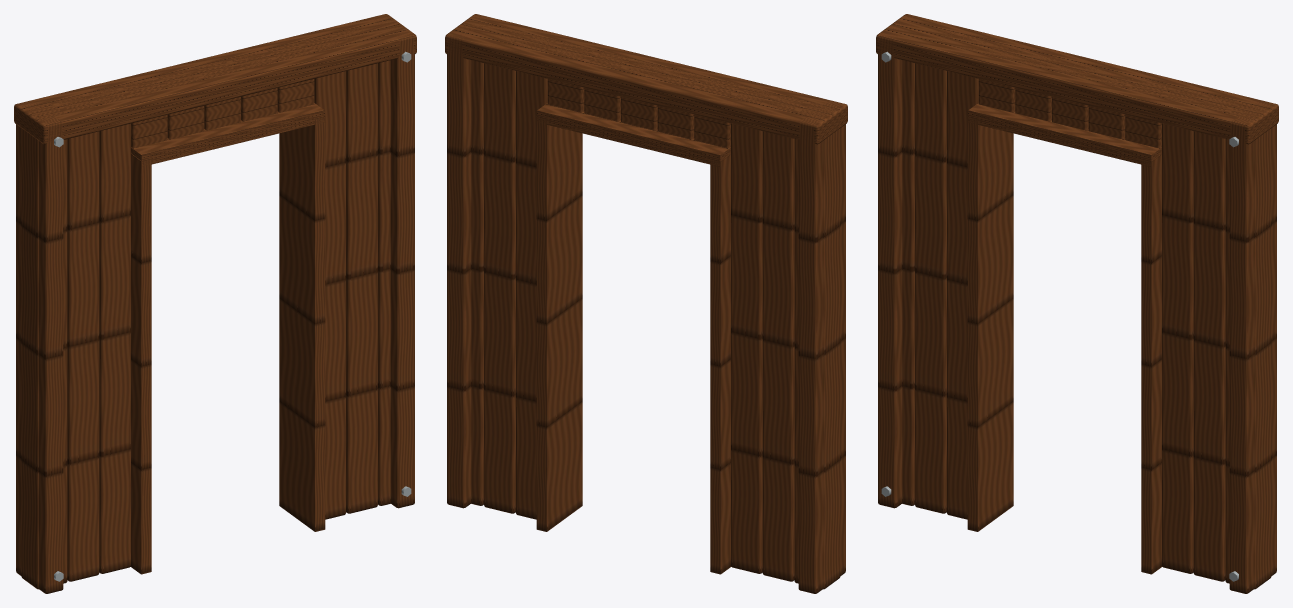
The model's file is fortified-compound-expansion-gatehouse-rear-door-cc315021__27106.glb.
3 renders of one model, left to right at view 1: azimuth 30°, elevation 25°; view 2: azimuth 150°, elevation 25°; view 3: azimuth 330°, elevation 25°, orthographic.
Parts seen in each view (by area): view 1: gatehouse-rear-door; view 2: gatehouse-rear-door; view 3: gatehouse-rear-door.
Boxes of the visible parts, <box> form: gatehouse-rear-door: <box>14,14,416,593</box>; gatehouse-rear-door: <box>445,14,847,593</box>; gatehouse-rear-door: <box>876,14,1278,593</box>.
Size of the model in its own units: 2 by 2.4 by 0.3329.
Materials: 2 (1 with a texture image).
